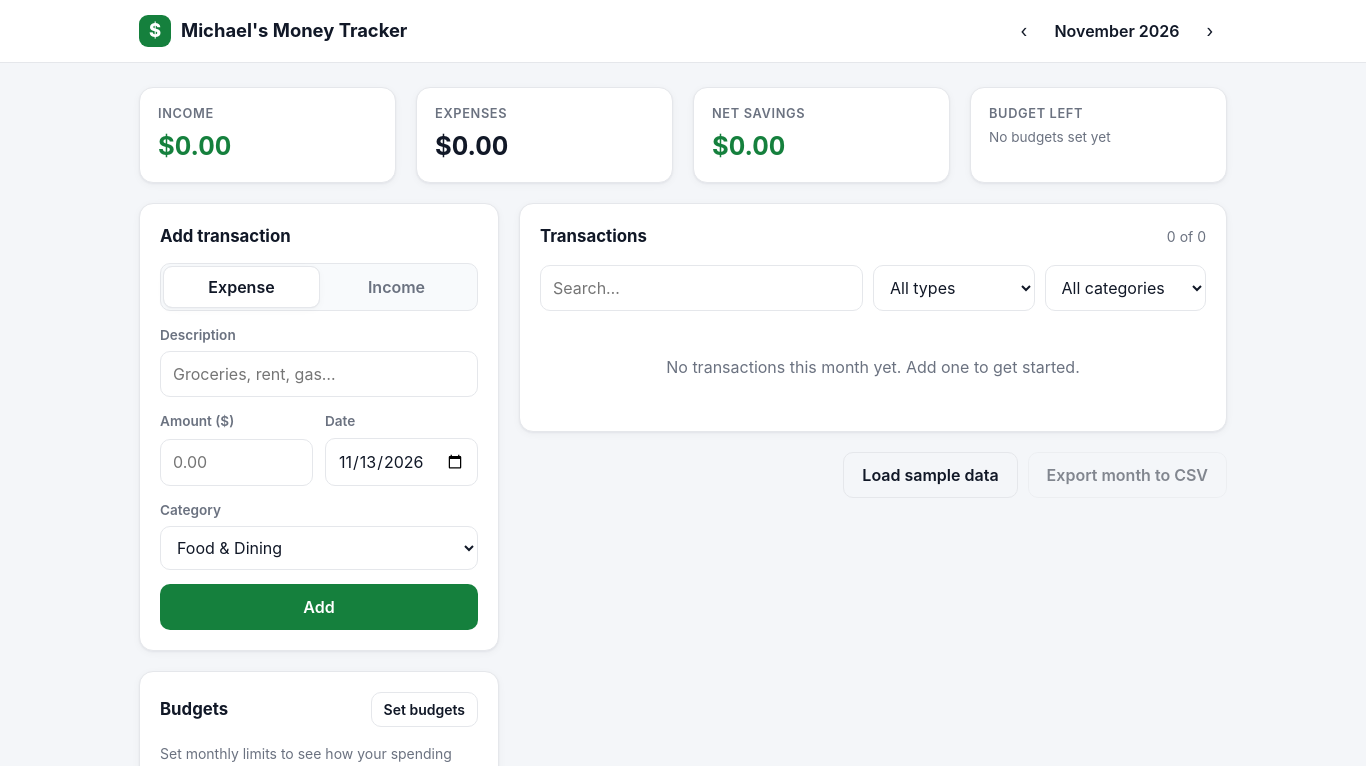
Scenario: adding income and expenses updates the totals, including cents
The width and height of the screenshot is (1366, 766).
Step 1. Click the button "Income" → (396, 287), box [319, 267, 474, 307]
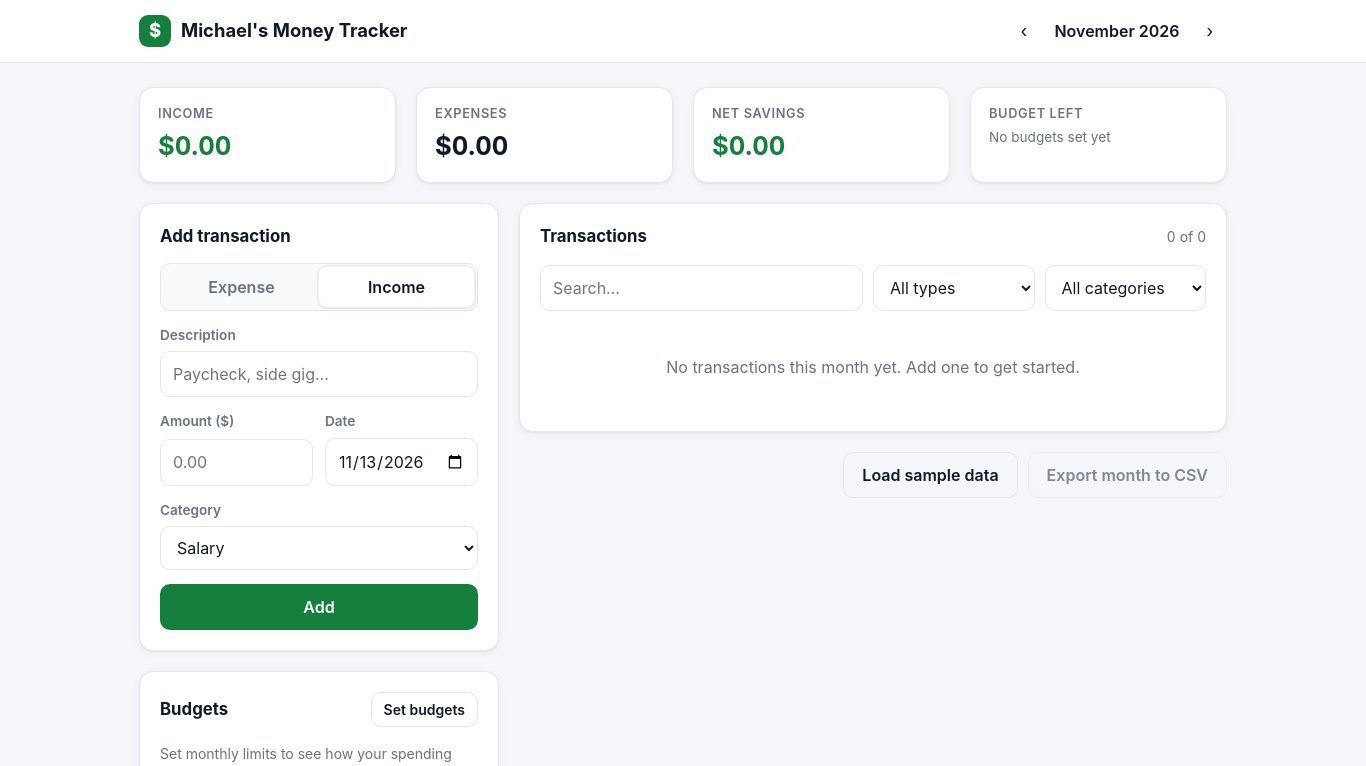
Step 2. Type "Paycheck" into the field labelled "Description" → (319, 374), box [160, 351, 478, 397]
Step 3. Type "1000" into the number field labelled "Amount ($)" → (236, 462), box [160, 438, 313, 486]
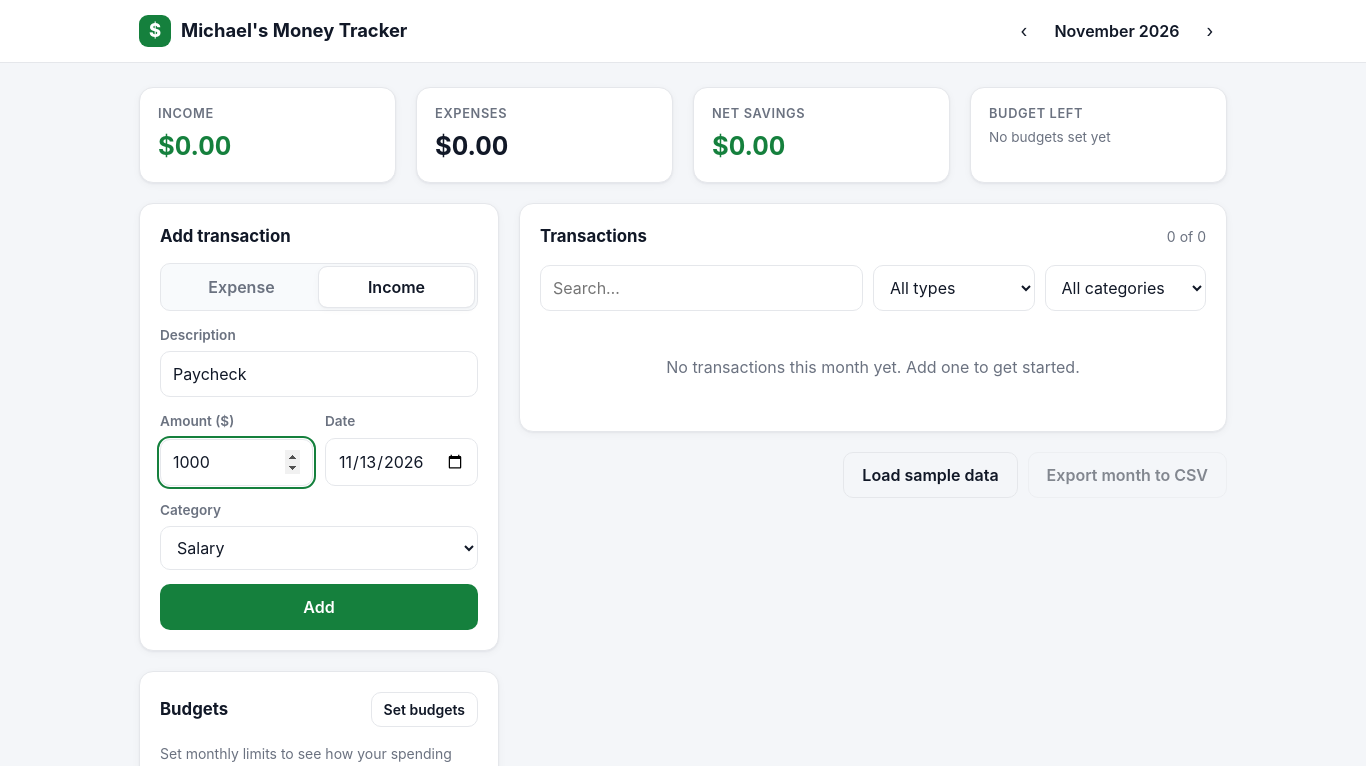
Step 4. Click the button "Add" → (319, 607), box [160, 584, 478, 630]
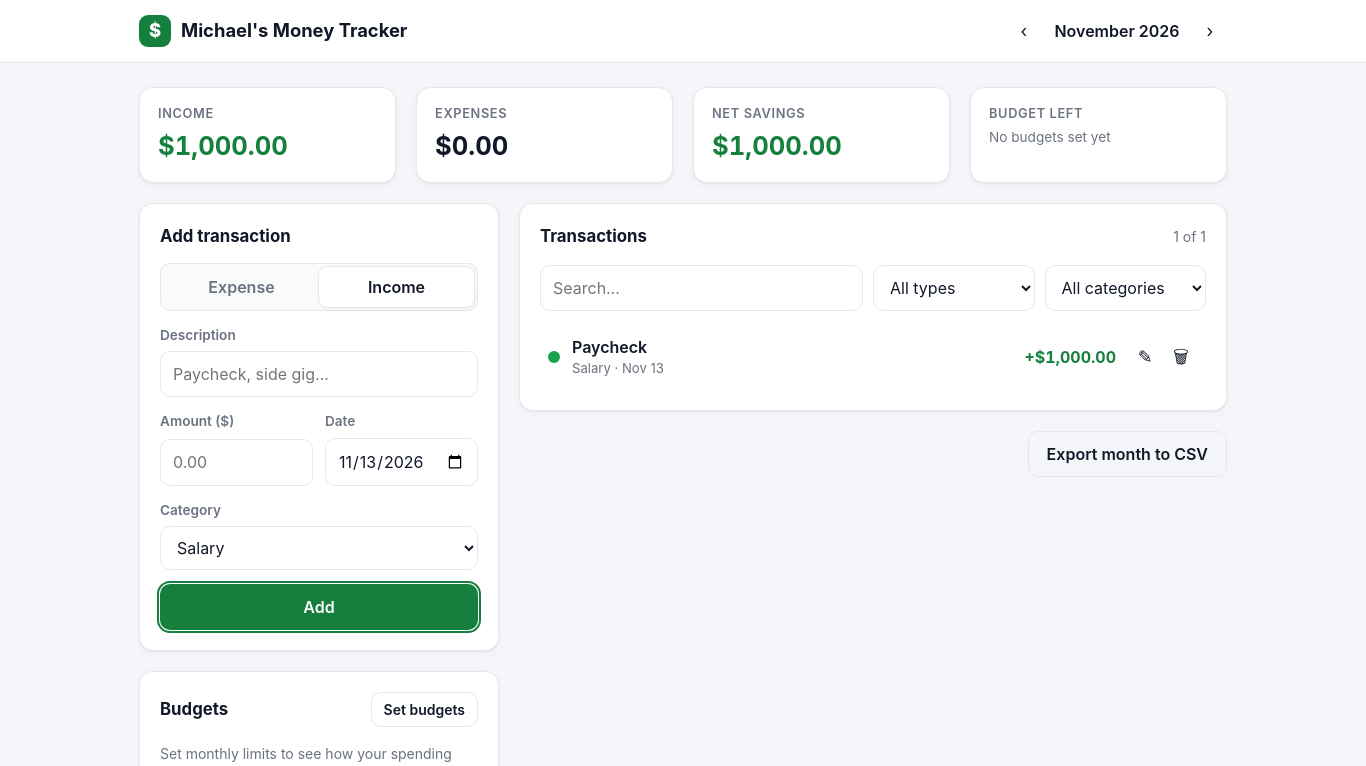
Step 5. Click the button "Expense" → (242, 287), box [164, 267, 319, 307]
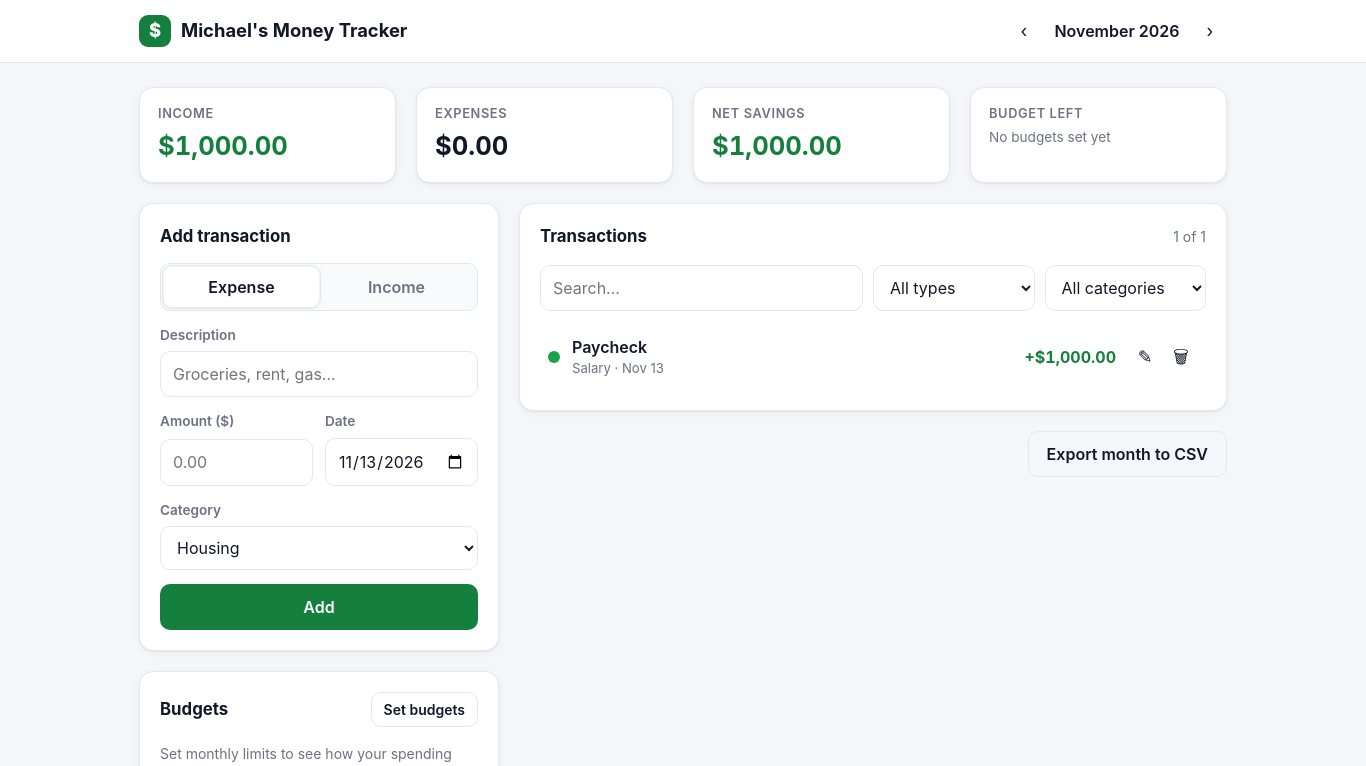
Step 6. Type "Groceries" into the field labelled "Description" → (319, 374), box [160, 351, 478, 397]
Step 7. Type "12.99" into the number field labelled "Amount ($)" → (236, 462), box [160, 438, 313, 486]
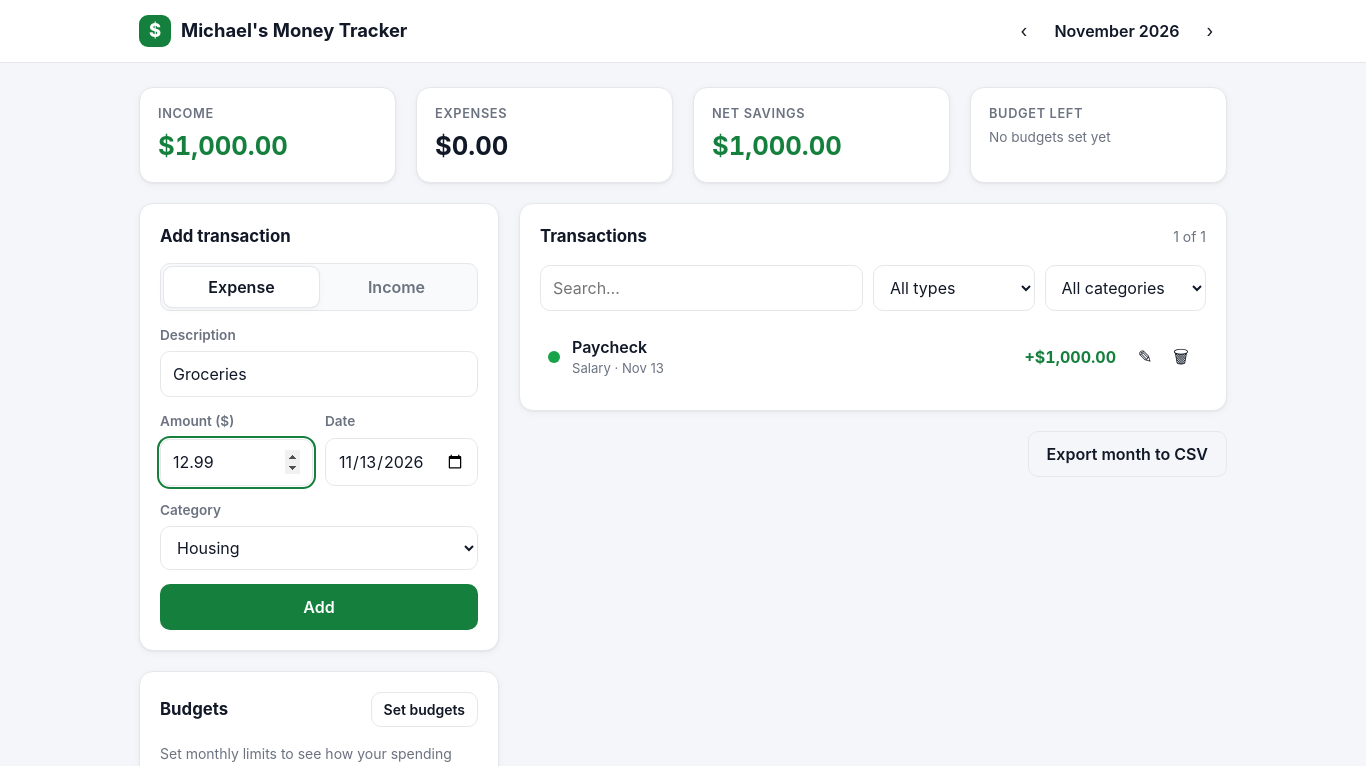
Step 8. Click the button "Add" → (319, 607), box [160, 584, 478, 630]
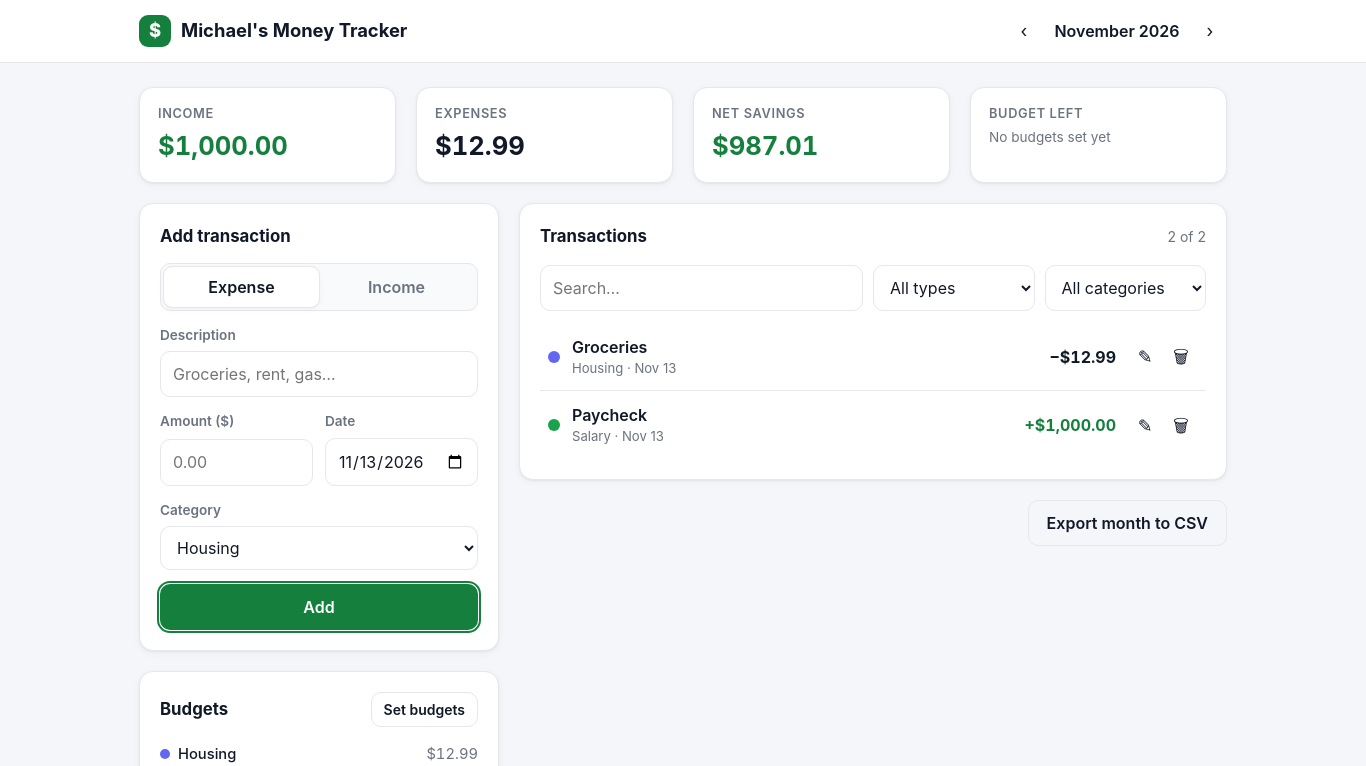
Expected: the text "Paycheck" is shown, [572, 406, 647, 426]
Expected: the text with test id "income-total" reads "$1,000.00", [158, 130, 288, 161]
Expected: the text "Groceries" is shown, [572, 337, 647, 357]
